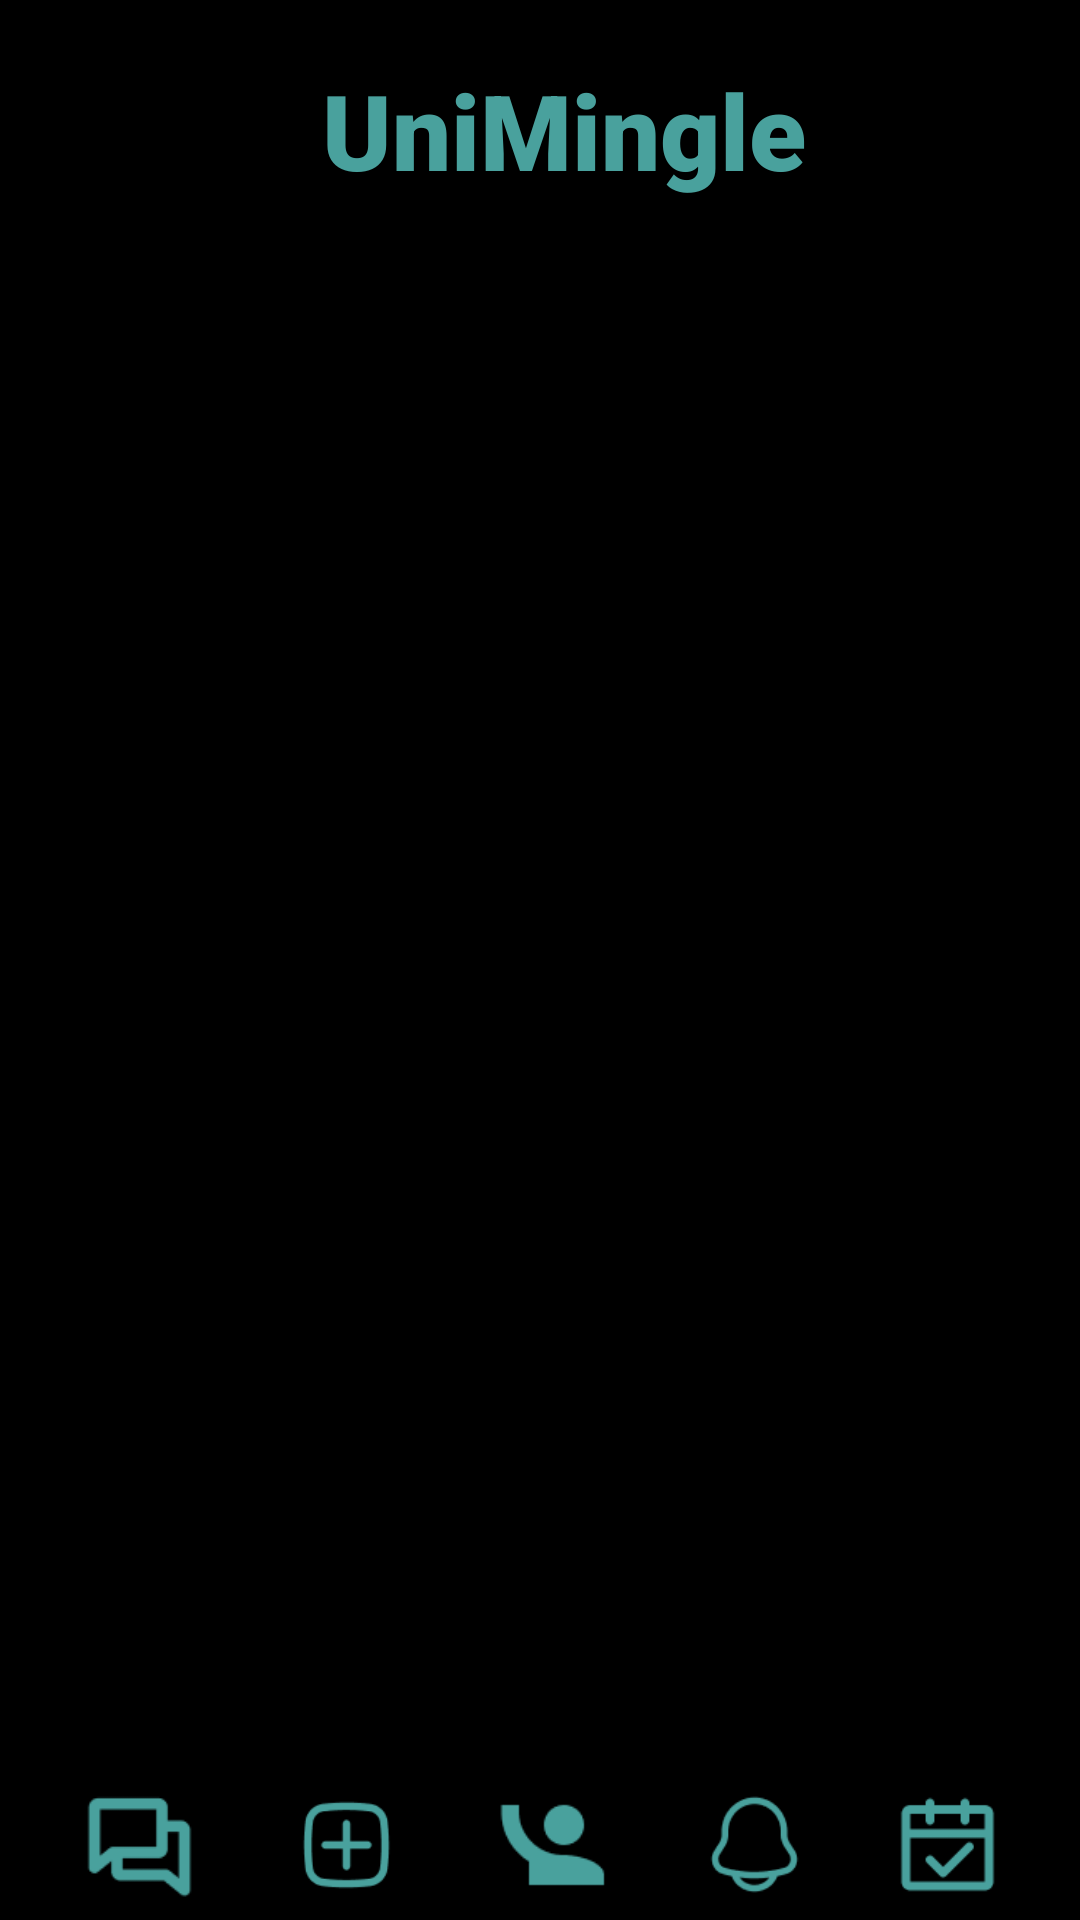

Icons on this 1080 x 1920 Android screen, each with its box as (x1, y1, x2, y2):
Chat: (88, 1798, 191, 1897)
create event: (303, 1802, 390, 1888)
plan: (901, 1798, 994, 1891)
profile: (500, 1804, 605, 1886)
